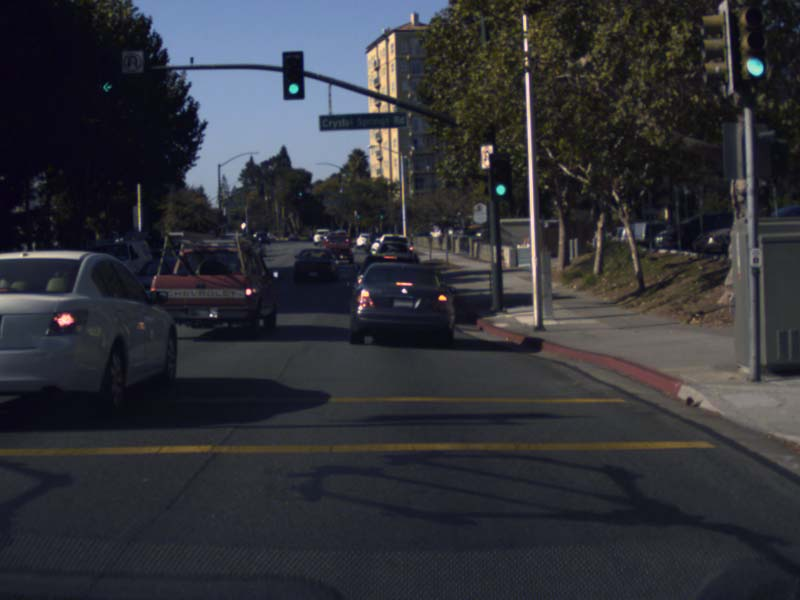Green: (746, 6, 765, 77), (282, 52, 302, 99), (490, 155, 509, 196), (100, 65, 111, 93), (297, 184, 302, 196), (379, 210, 383, 220), (356, 210, 360, 219)
